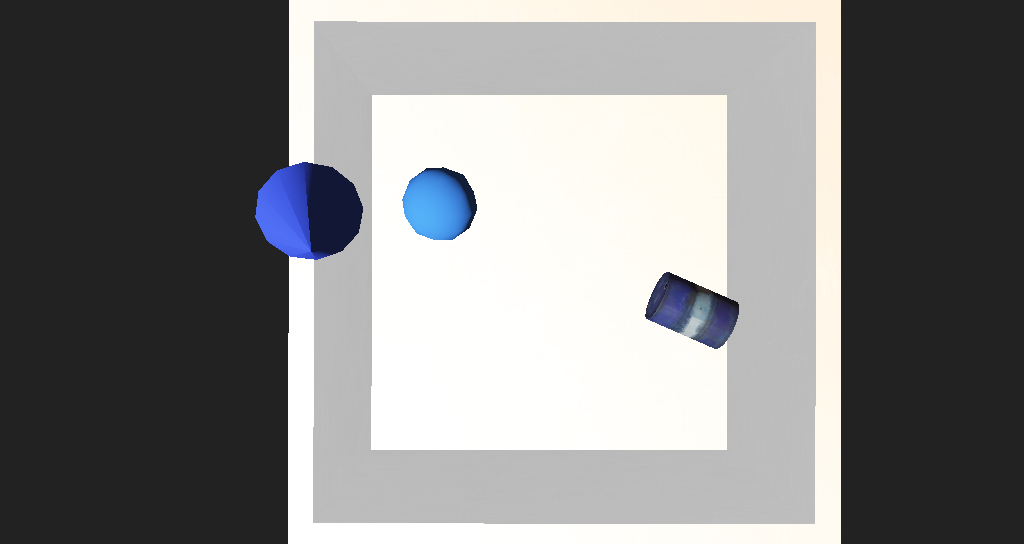cone: (586, 267, 667, 315)
cylinder: (222, 198, 371, 289)
sphere: (377, 208, 445, 251)
